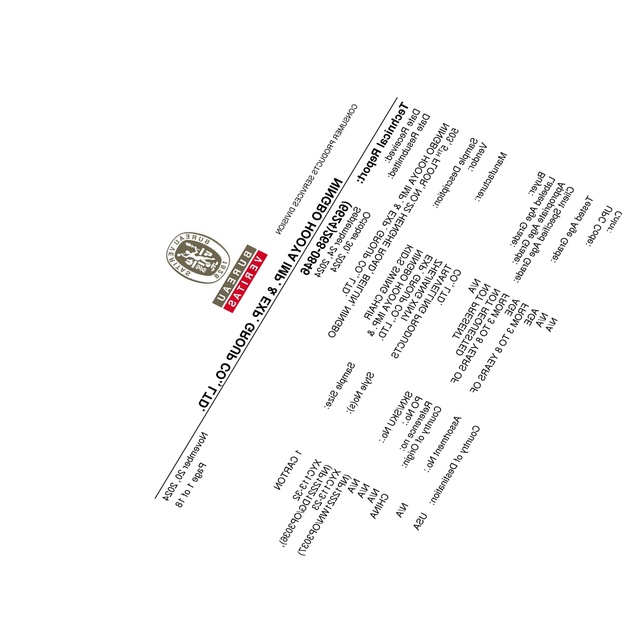bureau_veritas: (160, 228, 268, 313)
